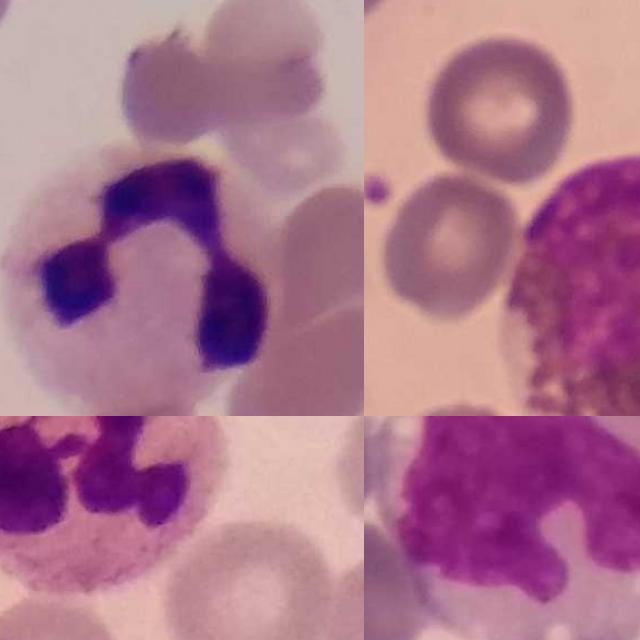Lymphocyte: (501, 153, 640, 416)
Monocyte: (374, 416, 640, 640)
Neutrophil: (5, 141, 279, 412), (0, 416, 226, 601)
